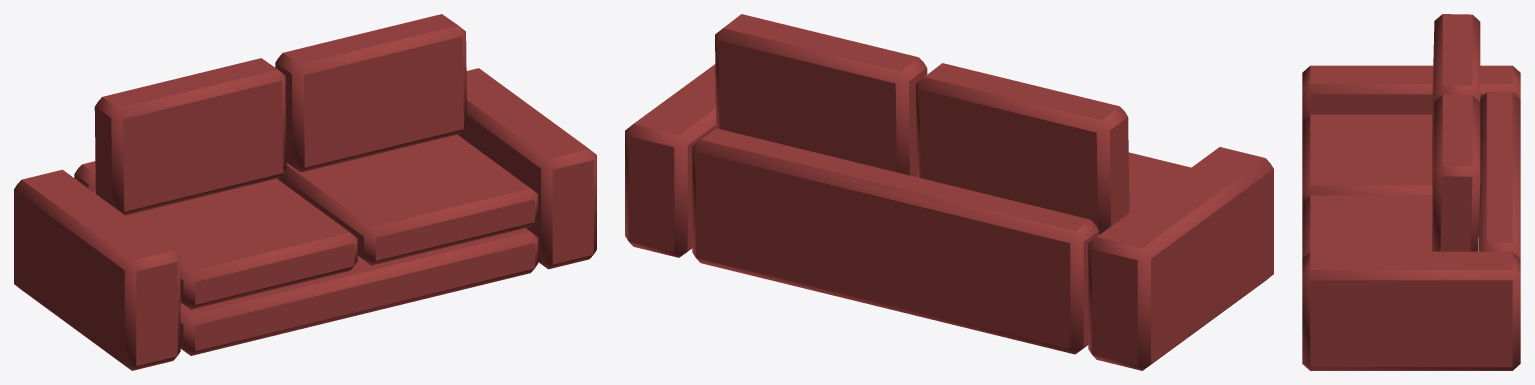
File: quaternius-toon-shooter-game-sofa.glb
3 views of the same model, side by side, from view 1: azimuth 30°, elevation 25°; view 2: azimuth 150°, elevation 25°; view 3: azimuth 270°, elevation 25° (orthographic). The views are drawn at different scales.
Parts seen in each view (by area): view 1: Sofa; view 2: Sofa; view 3: Sofa.
Boxes of the visible parts, x1,y1,x2,y2 form: Sofa: (14,14,596,370); Sofa: (625,14,1273,370); Sofa: (1302,14,1520,370).
Size of the model in its own units: 3.35 by 1.32 by 1.46.
